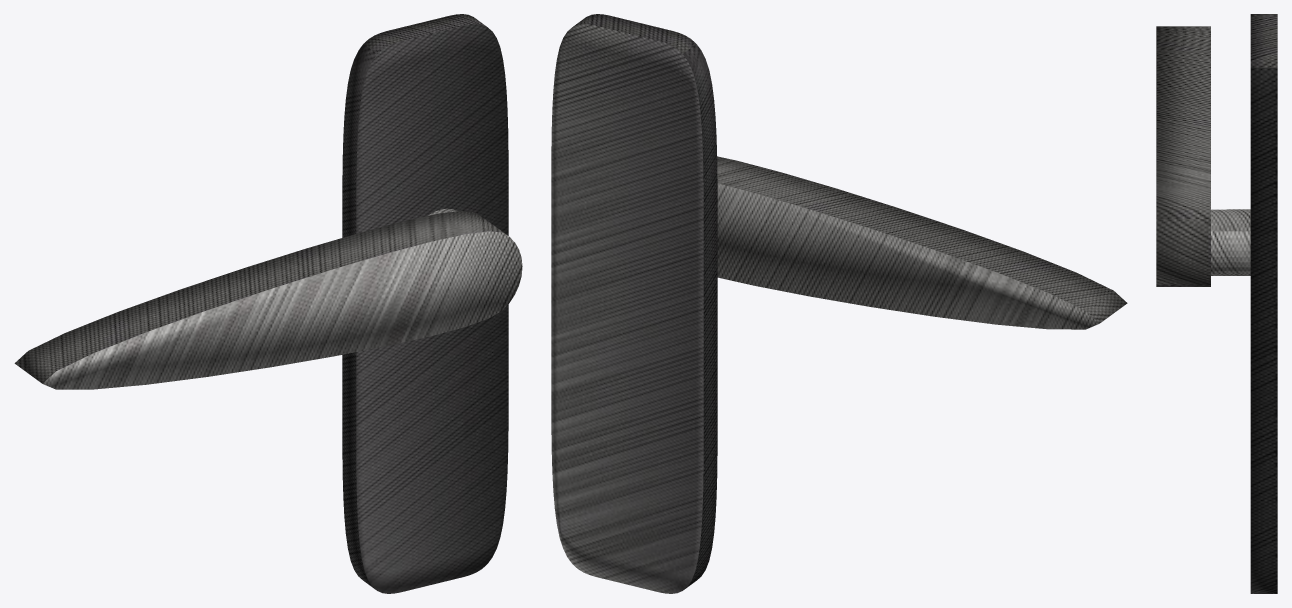
Rendered from chapa.obj.
The picture shows the model from 3 angles, left to right: view 1: azimuth 30°, elevation 25°; view 2: azimuth 150°, elevation 25°; view 3: azimuth 270°, elevation 25°; orthographic projection. The views are drawn at different scales.
Parts seen in each view (by area): view 1: Circle.001_Circle.002; view 2: Circle.001_Circle.002; view 3: Circle.001_Circle.002.
Part boxes in pixels (box(x1,y1,x2,y2)): Circle.001_Circle.002: box(14, 14, 522, 593); Circle.001_Circle.002: box(551, 14, 1127, 593); Circle.001_Circle.002: box(1156, 14, 1277, 593).
Bounding box in the file's own units: 0.3304 × 0.3383 × 0.069.
